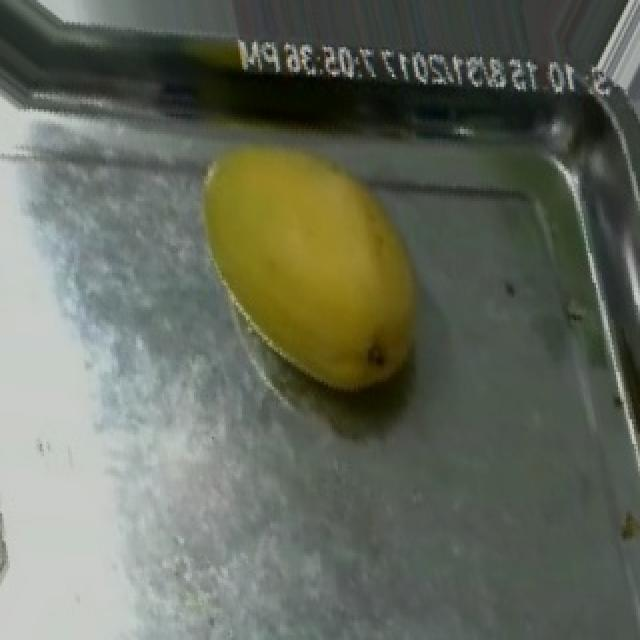fruit: (162, 107, 482, 429)
